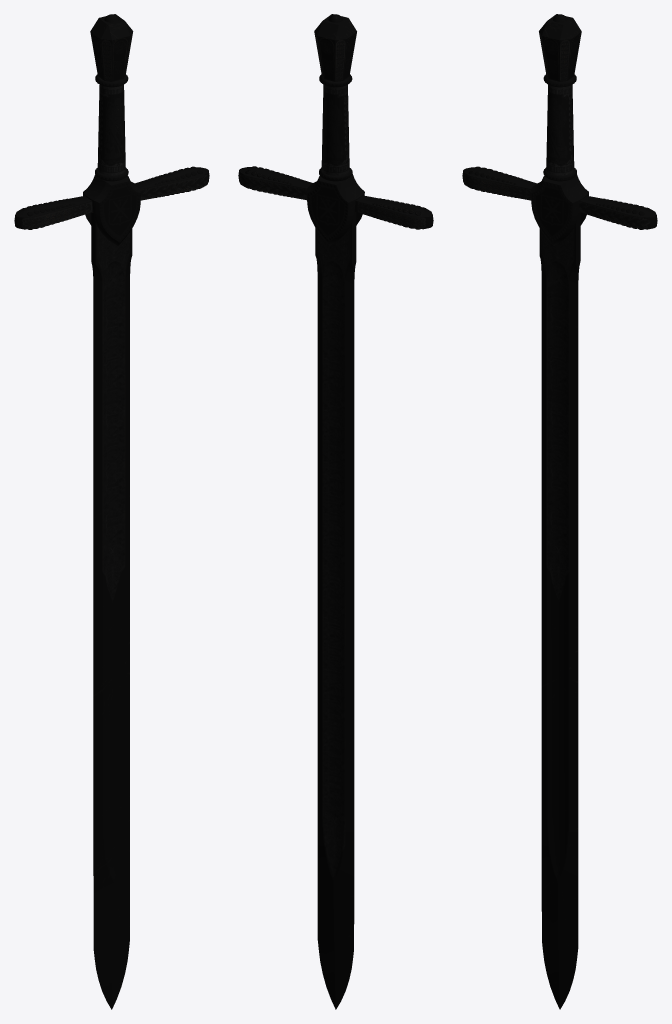
Rendered from victory.glb.
3 views of the same model, side by side, from view 1: azimuth 30°, elevation 25°; view 2: azimuth 150°, elevation 25°; view 3: azimuth 330°, elevation 25° (orthographic).
Parts seen in each view (by area): view 1: Object_4, Object_3; view 2: Object_4, Object_3; view 3: Object_4, Object_3.
Part boxes in pixels (bbox=[...]): Object_4: bbox=[14, 14, 209, 1009]; Object_3: bbox=[21, 14, 202, 1007]; Object_4: bbox=[238, 14, 433, 1009]; Object_3: bbox=[245, 14, 427, 998]; Object_4: bbox=[462, 14, 657, 1009]; Object_3: bbox=[468, 14, 650, 1005].
Size of the model in its own units: 0.4219 by 2.08 by 0.0711.
Materials: 1 (1 with a texture image).
